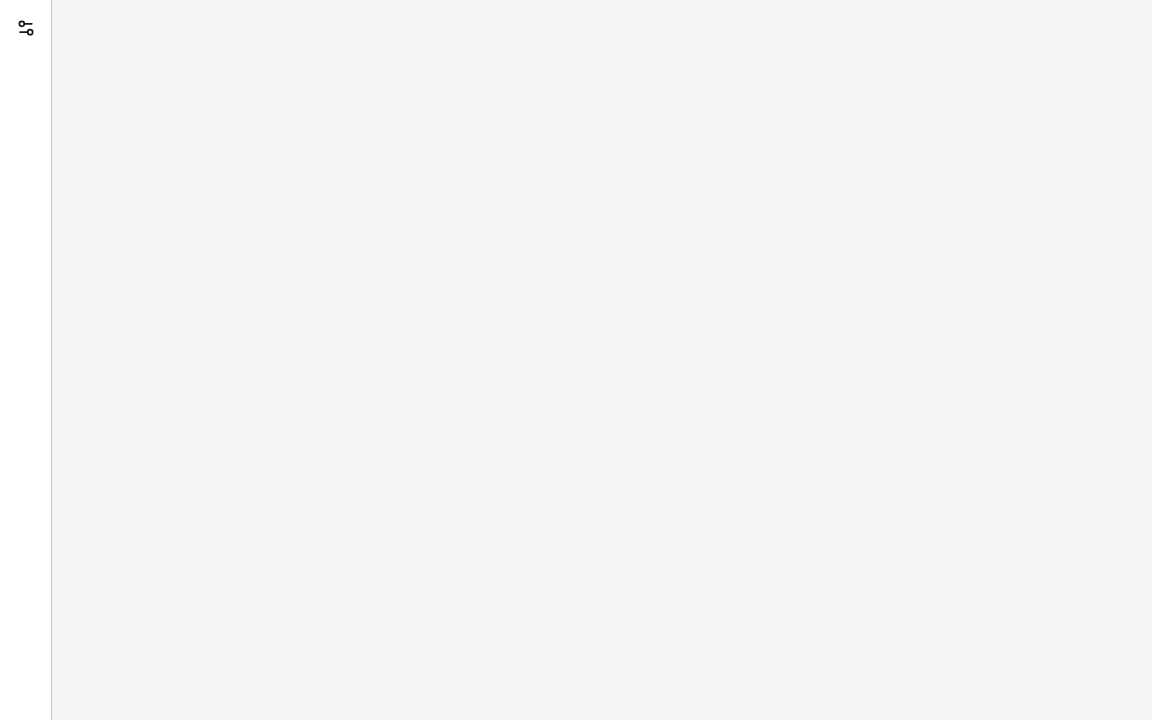
Test: starts shared boards empty, fences observer application and applies editor selection
The width and height of the screenshot is (1152, 720).
Later steps or results of the test are not shown.
Expected: the button "Electrical" is not shown
Click the button named "Libraries and presets". click: (26, 28)
box: [6,8,46,48]
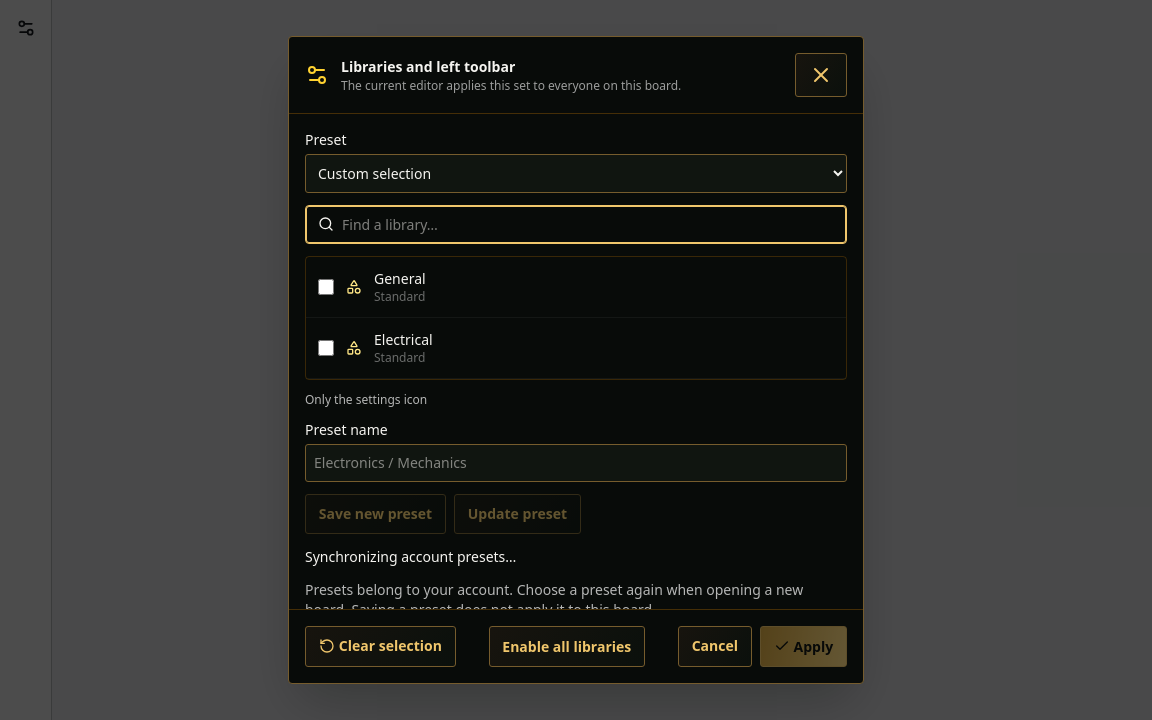
Click the checkbox labelled "Electrical Standard". click: (326, 348)
box: [318,340,334,356]
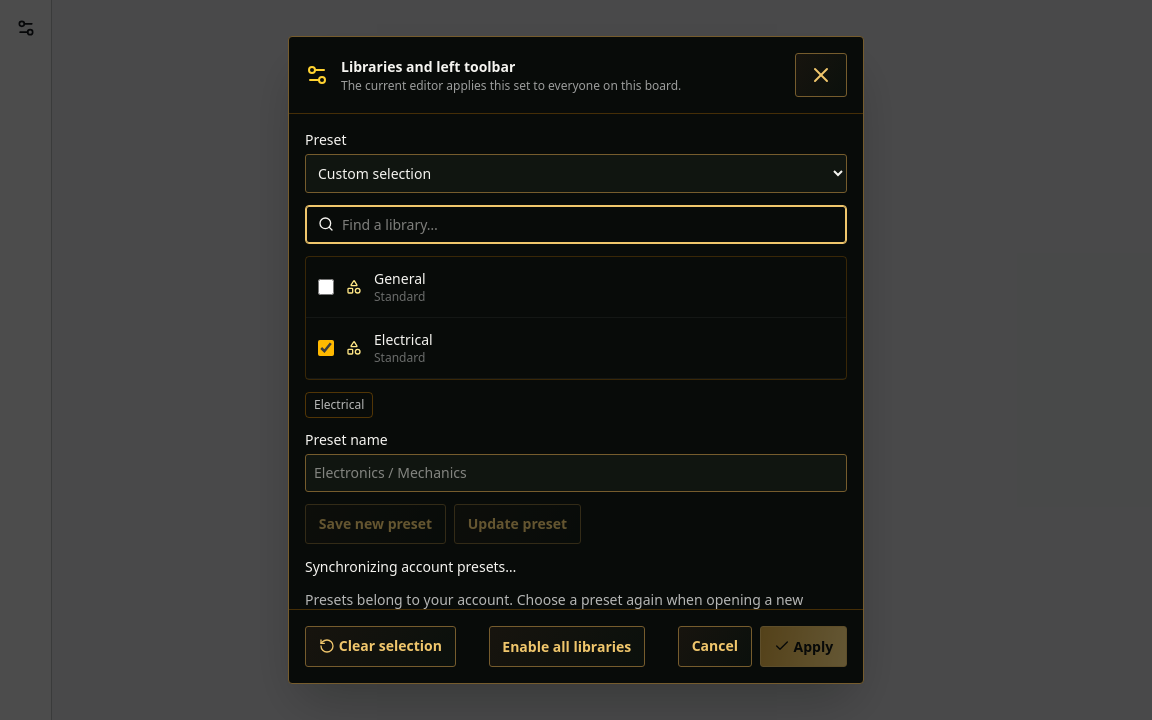
Expected: the button "Apply" is disabled, [760,626,847,667]
